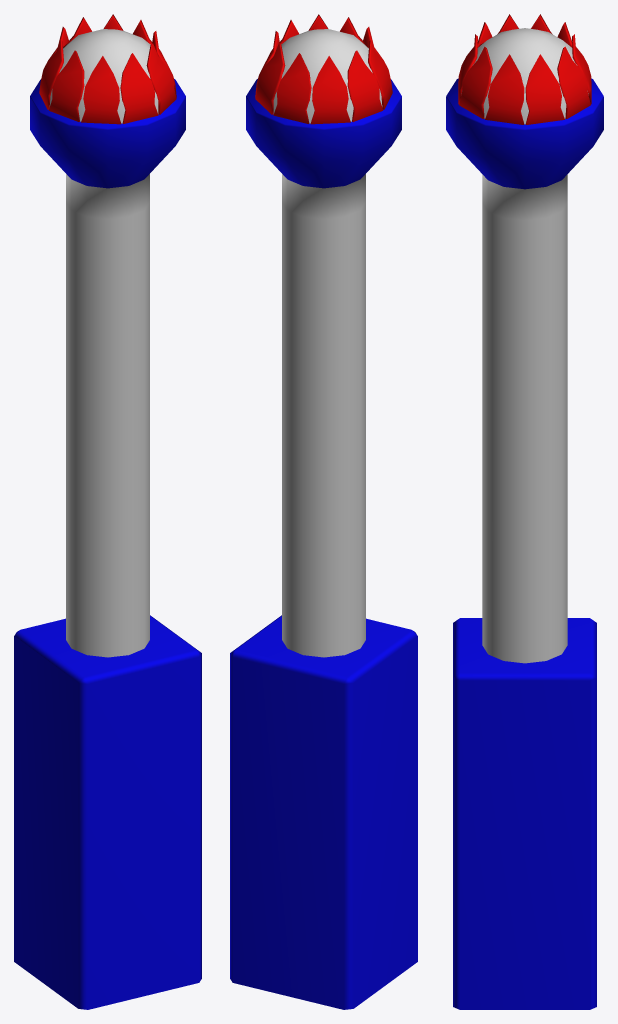
Rendered from Dom_znati_Kolonna_kaktus.fbx.
3 views of the same model, side by side, from view 1: azimuth 30°, elevation 25°; view 2: azimuth 150°, elevation 25°; view 3: azimuth 270°, elevation 25° (orthographic).
Parts seen in each view (by area): view 1: Kolonna_kaktus; view 2: Kolonna_kaktus; view 3: Kolonna_kaktus.
Boxes of the visible parts, bbox=[...] form: Kolonna_kaktus: bbox=[14, 14, 201, 1009]; Kolonna_kaktus: bbox=[230, 14, 417, 1009]; Kolonna_kaktus: bbox=[446, 14, 603, 1009].
Bounding box in the file's own units: 3.41 × 22.53 × 3.41.
